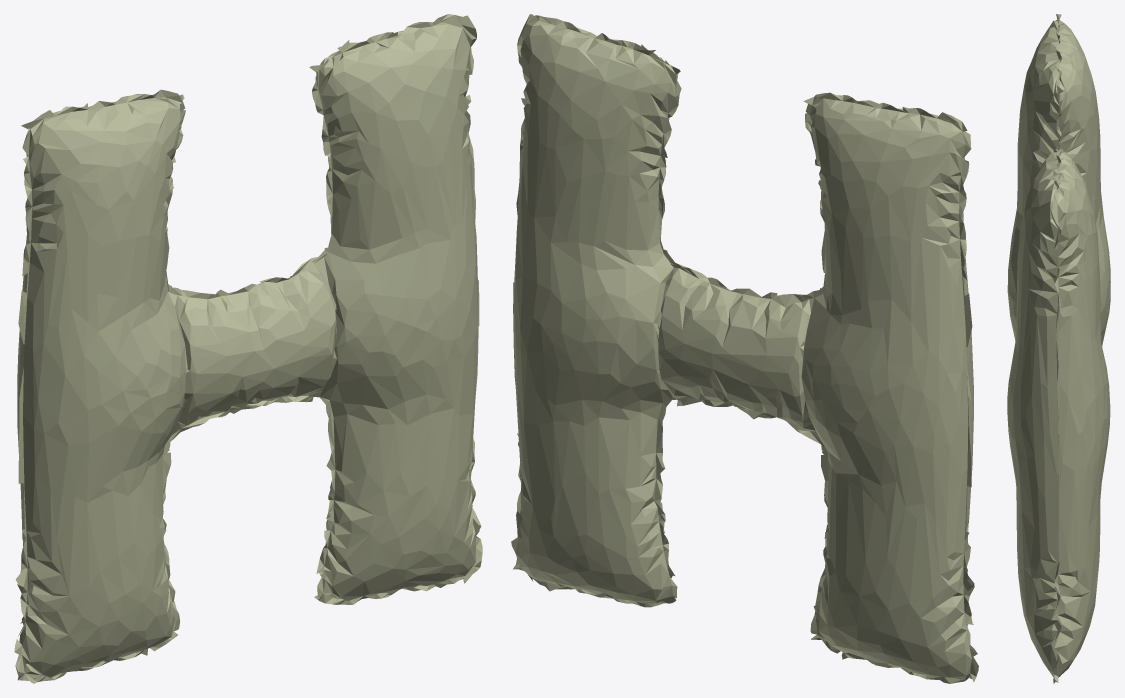
File: tinker.obj
The picture shows the model from 3 angles, left to right: view 1: azimuth 30°, elevation 25°; view 2: azimuth 150°, elevation 25°; view 3: azimuth 270°, elevation 25°; orthographic projection. The views are drawn at different scales.
Parts seen in each view (by area): view 1: obj_0; view 2: obj_0; view 3: obj_0.
Part boxes in pixels (<box>): obj_0: <box>14,14,482,683</box>; obj_0: <box>511,14,978,683</box>; obj_0: <box>1007,14,1110,683</box>.
Bounding box in the file's own units: 13.14 × 15.44 × 2.93.
